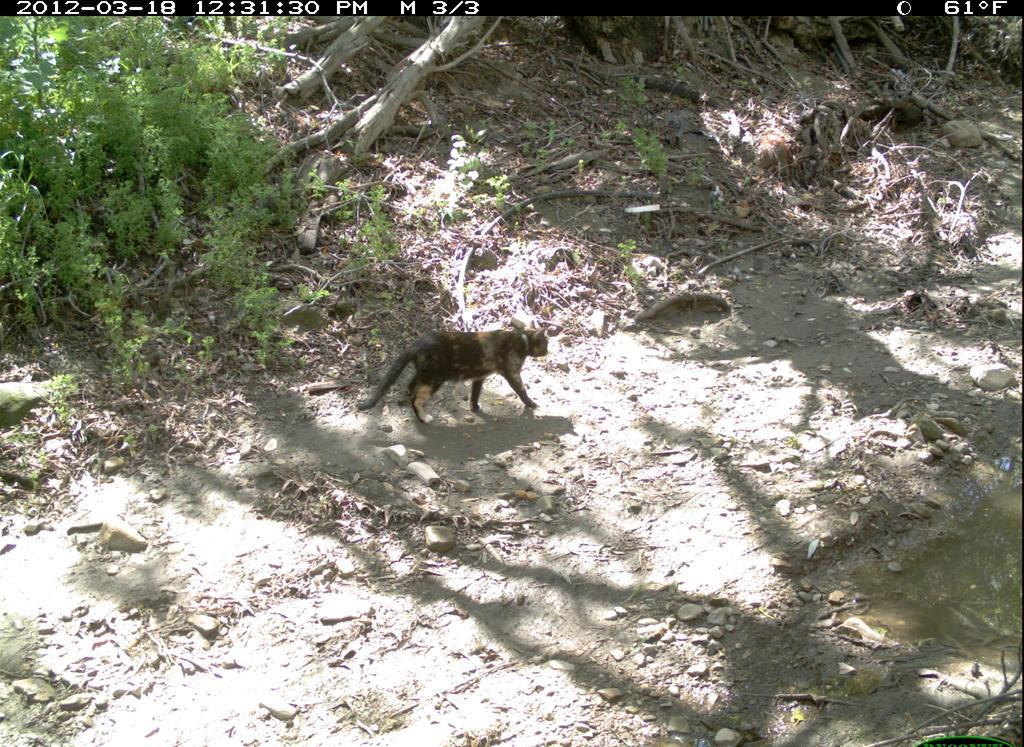cat: (355, 313, 578, 434)
